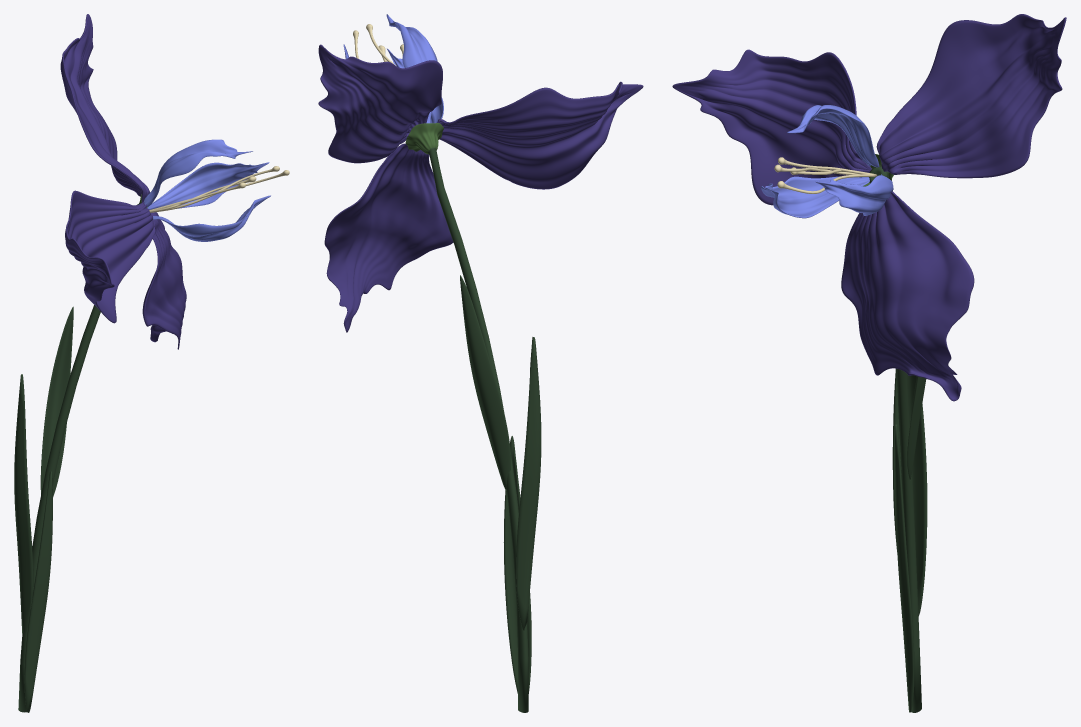
File: SM_Iris_Big.fbx
The picture shows the model from 3 angles, left to right: view 1: azimuth 30°, elevation 25°; view 2: azimuth 150°, elevation 25°; view 3: azimuth 270°, elevation 25°; orthographic projection. The views are drawn at different scales.
Visible parts, largest first — view 1: SM_Flower_Iris_Big; view 2: SM_Flower_Iris_Big; view 3: SM_Flower_Iris_Big.
Part boxes in pixels (x1=…): SM_Flower_Iris_Big: x1=14, y1=14, x2=289, y2=712; SM_Flower_Iris_Big: x1=318, y1=14, x2=643, y2=712; SM_Flower_Iris_Big: x1=672, y1=14, x2=1066, y2=712.
Bounding box in the file's own units: 78.94 × 205 × 95.11.
